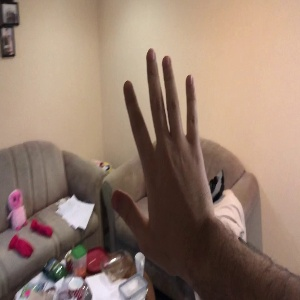hand: (112, 50, 213, 256)
